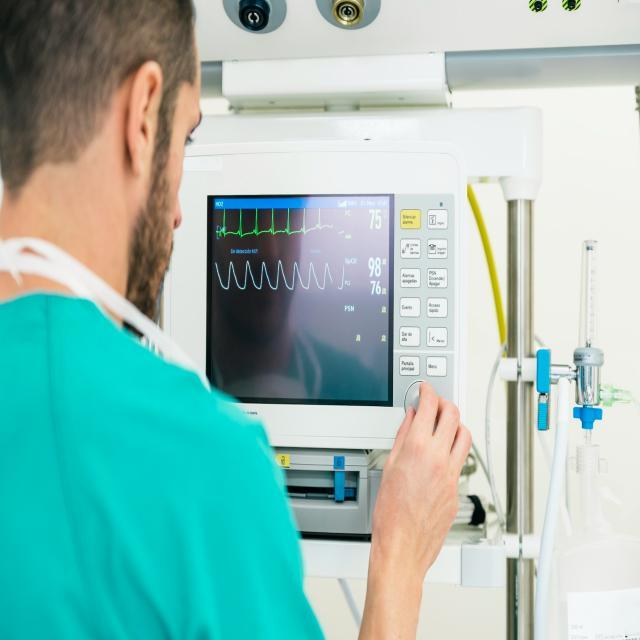Monitor: (162, 140, 504, 582)
